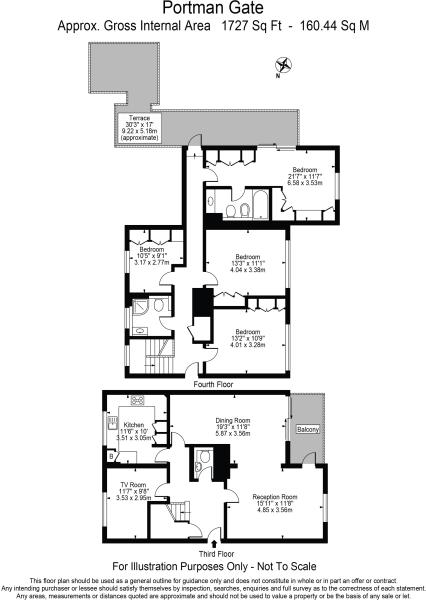GardenMeasurements: (118, 114, 160, 143)
GrossArea: (56, 17, 371, 34)
